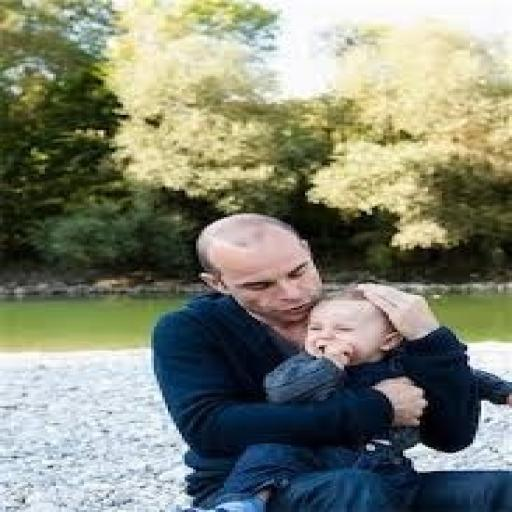hugging: (148, 212, 509, 510)
